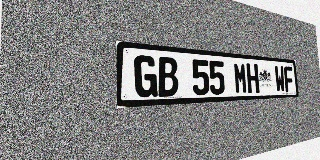5: (192, 59, 210, 95), (209, 60, 225, 95)
B: (157, 56, 179, 97)
F: (284, 66, 294, 92)
G: (134, 55, 158, 98)
H: (246, 63, 260, 93)
M: (233, 62, 248, 94)
W: (274, 65, 285, 92)
